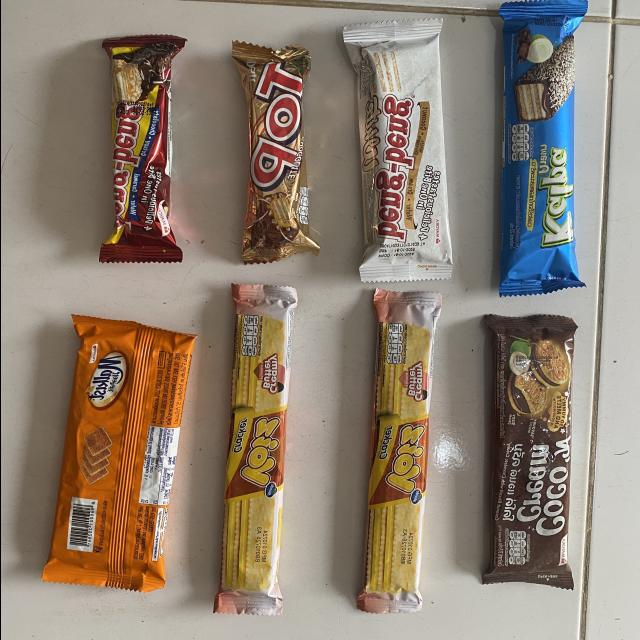plastik: (41, 315, 195, 592), (342, 18, 452, 281), (213, 284, 297, 616), (356, 289, 440, 613), (498, 0, 587, 296), (481, 315, 577, 588), (98, 35, 185, 262), (231, 41, 319, 263)
